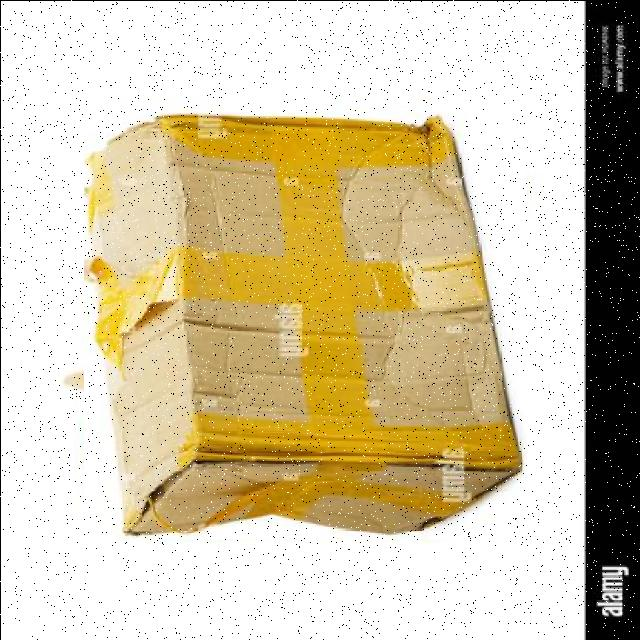defect: (83, 111, 526, 538)
